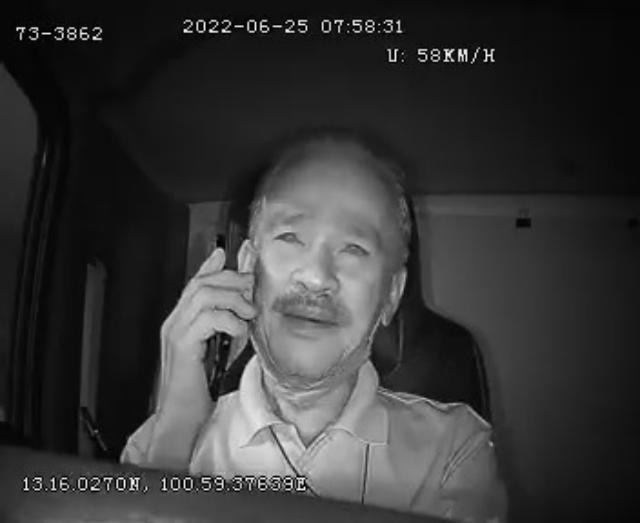PhoneUse: (198, 230, 236, 406)
SafeDriving: (331, 227, 377, 268), (266, 216, 310, 254)
